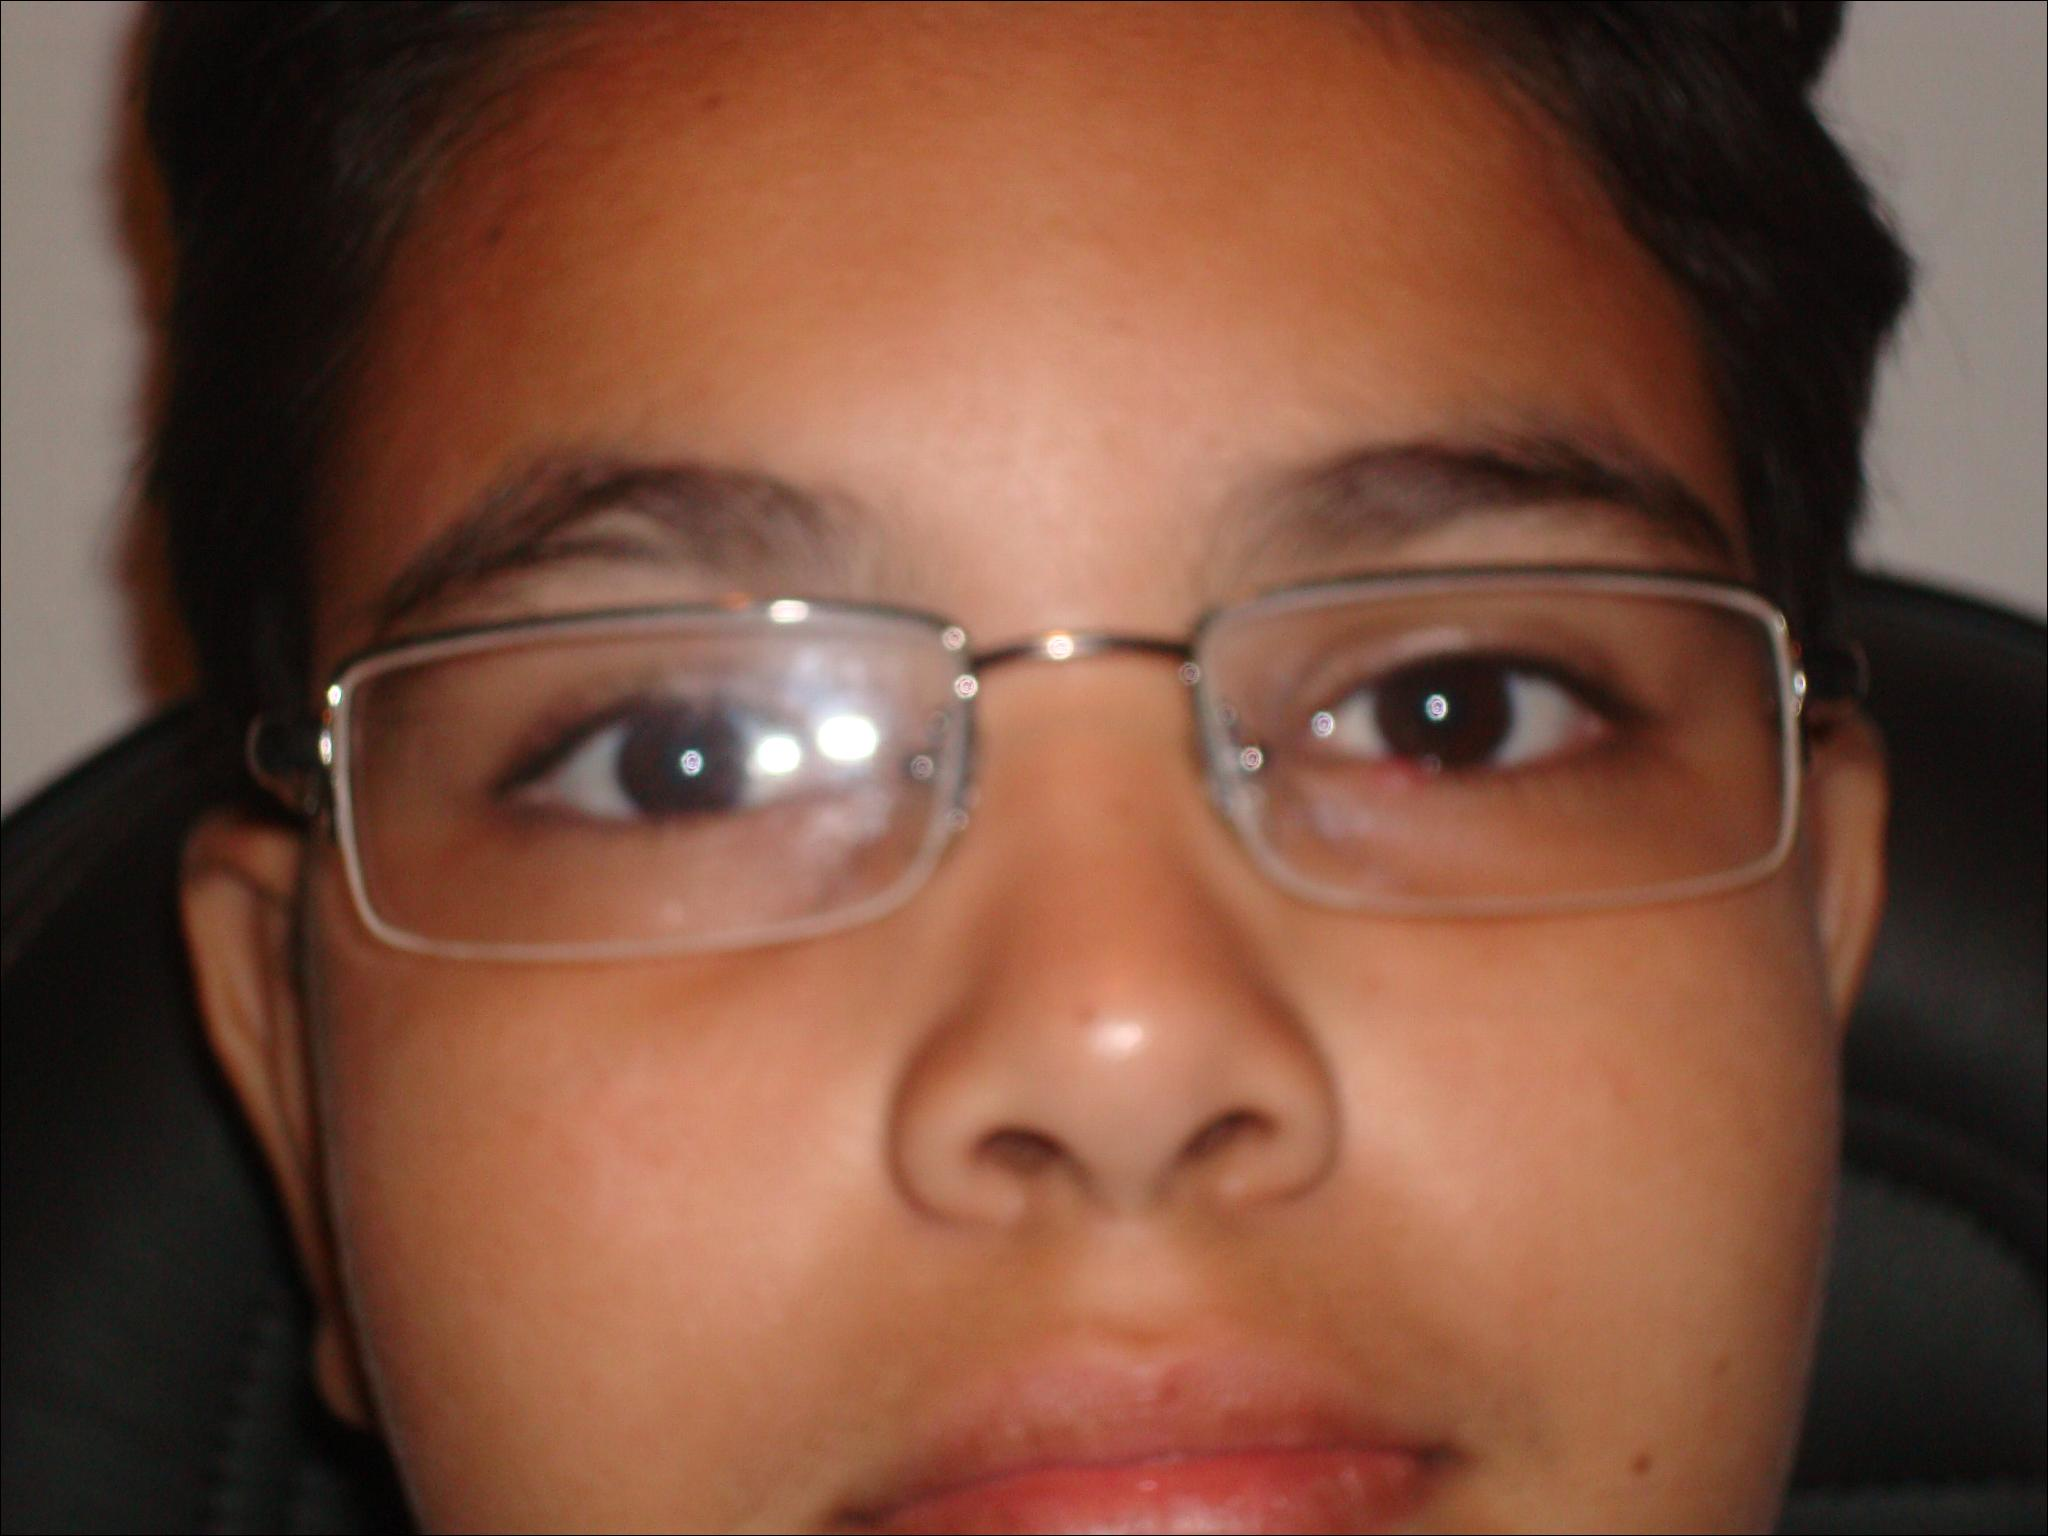flash: (1419, 689, 1453, 724), (672, 747, 710, 778)
limbo: (616, 695, 750, 824), (1372, 650, 1509, 770)
